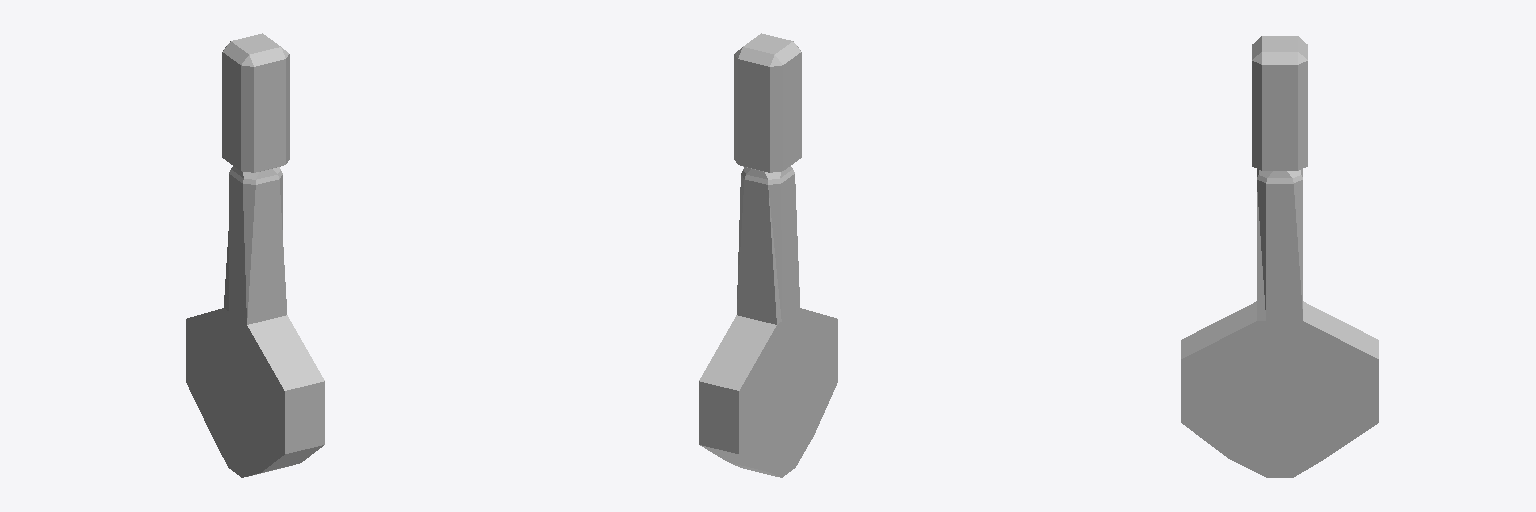
File: Lever_Handel.obj
3 views of the same model, side by side, from view 1: azimuth 30°, elevation 25°; view 2: azimuth 150°, elevation 25°; view 3: azimuth 270°, elevation 25° (orthographic).
Parts seen in each view (by area): view 1: Lever_Handel; view 2: Lever_Handel; view 3: Lever_Handel.
Boxes of the visible parts, x1=… form: Lever_Handel: x1=186, y1=33, x2=324, y2=477; Lever_Handel: x1=699, y1=33, x2=837, y2=477; Lever_Handel: x1=1181, y1=36, x2=1378, y2=477.
Size of the model in its own units: 0.3623 by 3.02 by 1.28.